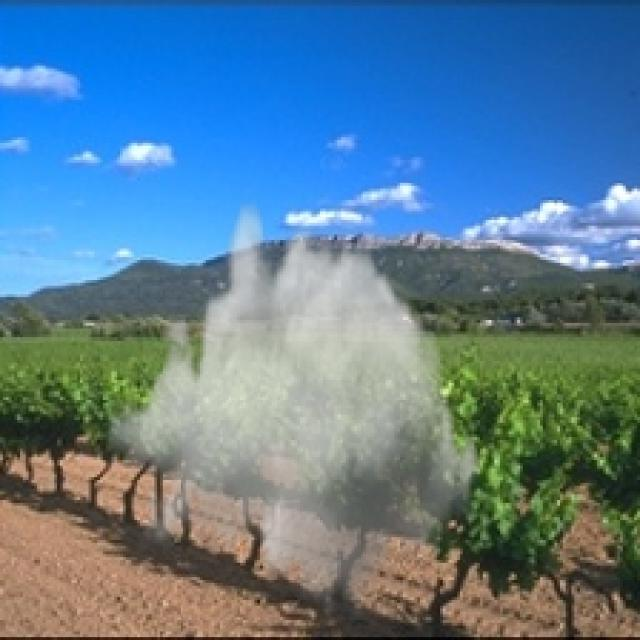smoke: (106, 200, 486, 626)
